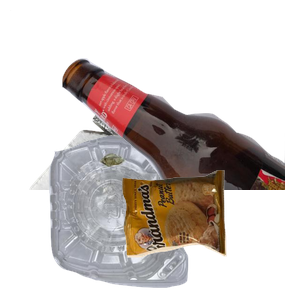glass: (60, 56, 300, 236)
paper: (10, 10, 250, 190)
plastic: (46, 130, 227, 300)
trash: (120, 168, 300, 300)
